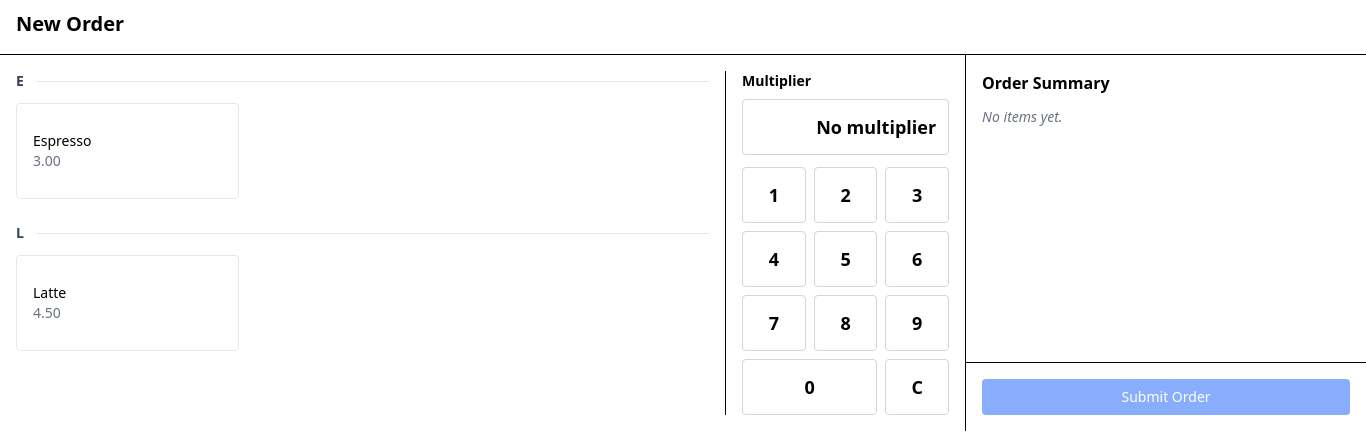
Test: Order › clears the multiplier without changing the cart
Click the button "Espresso 3.00": [128, 151] box [16,103,239,199]
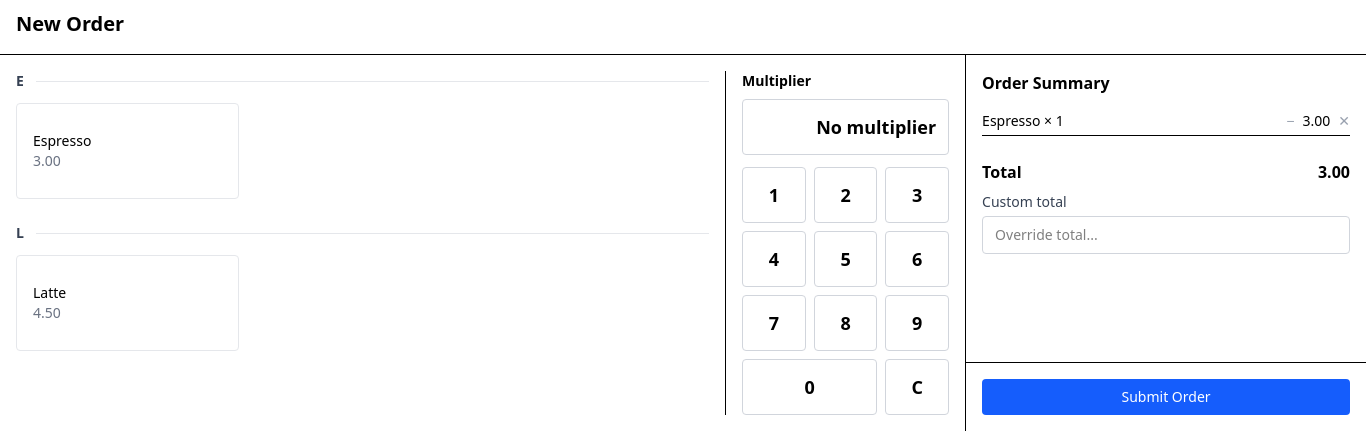
Click the button "2": [846, 195] box [814,167,878,223]
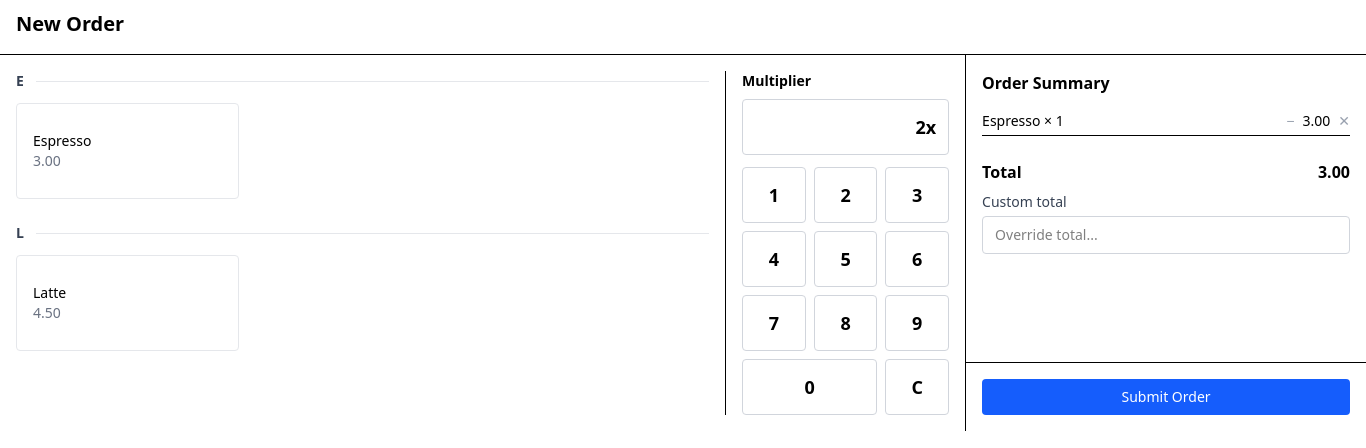
Click the button named "Clear multiplier": [917, 387] box [885,359,949,415]
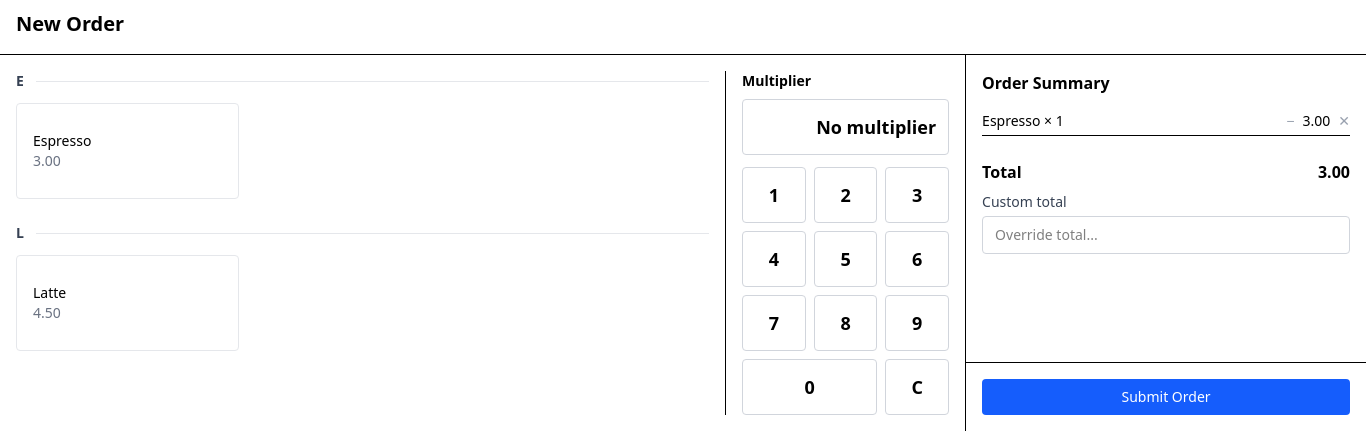
Now the text "Espresso × 1" is shown, box [982,111,1064,131]
Now the text "No multiplier" is shown, box [742,99,949,155]
